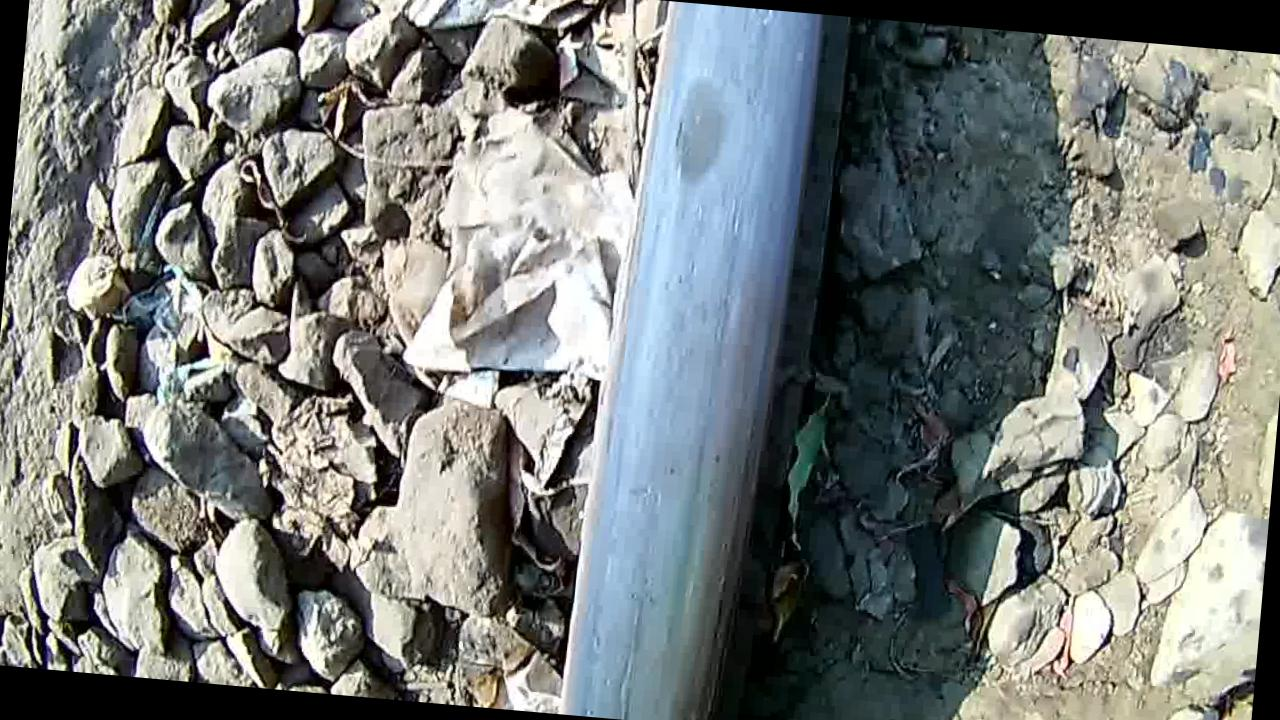bolt_missing: (628, 28, 804, 262)
